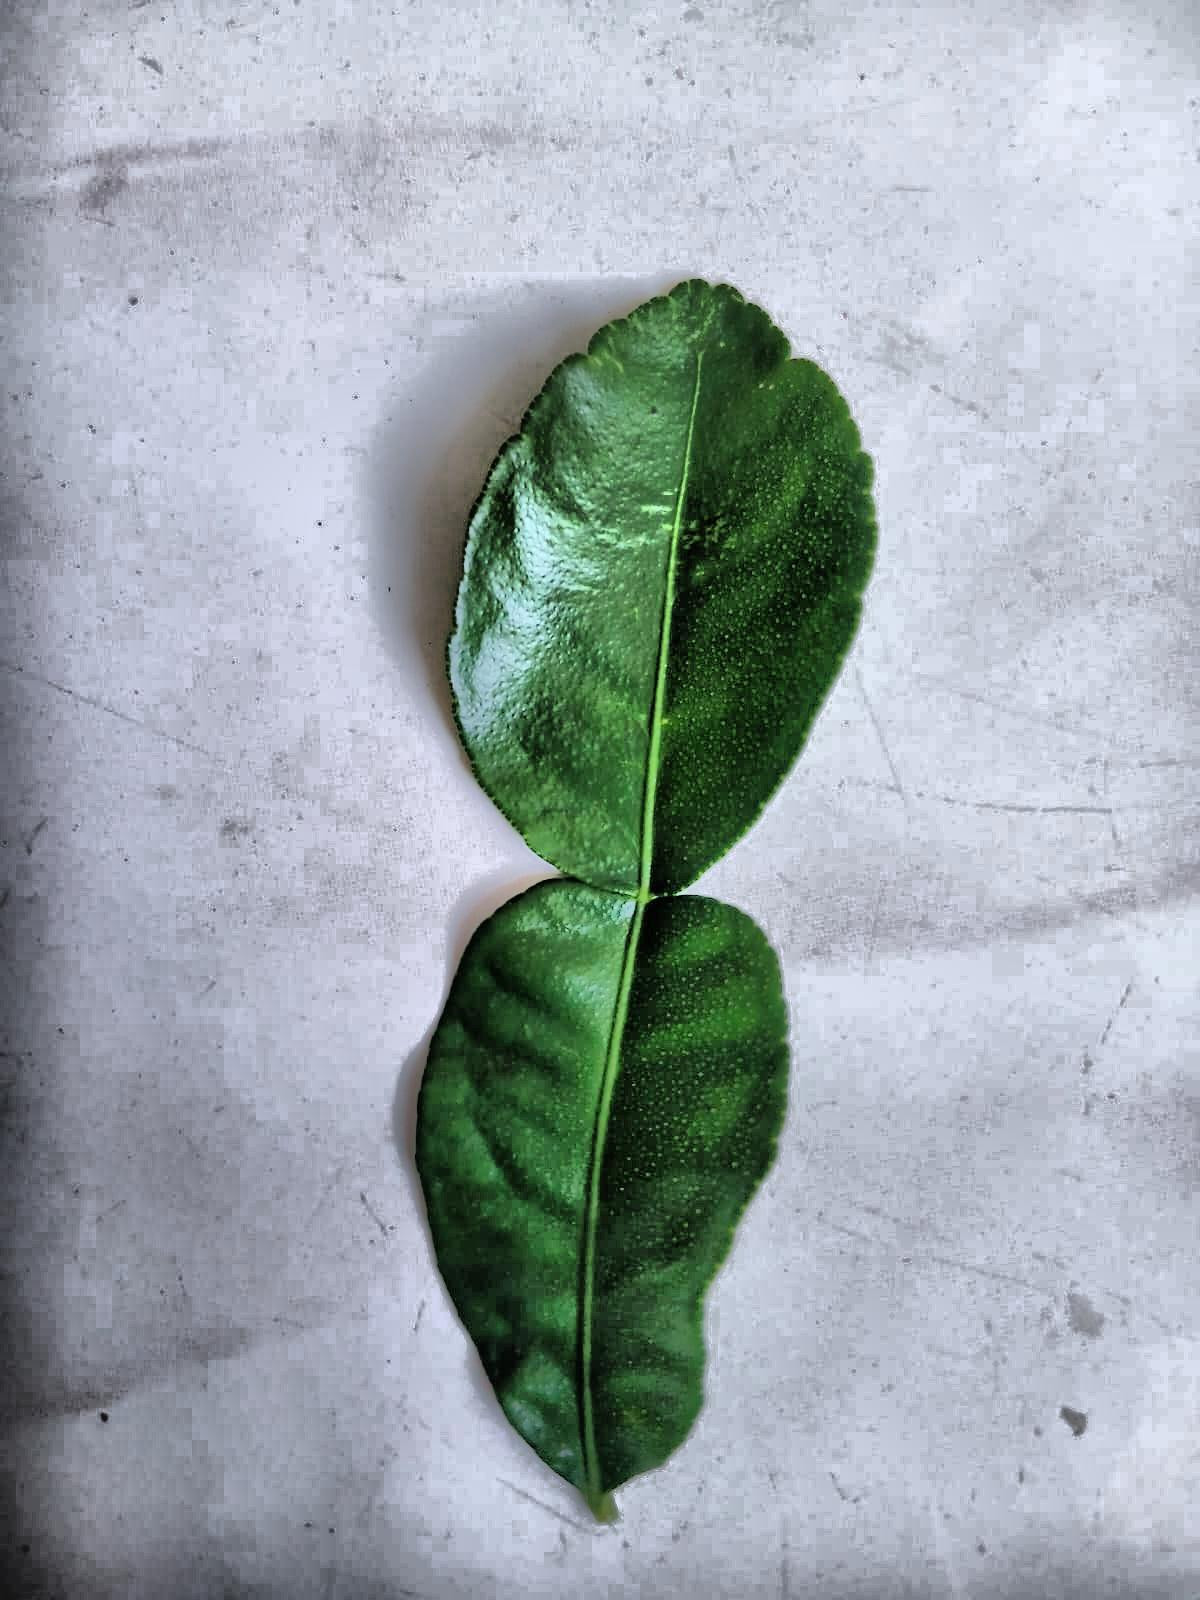daun jeruk: (416, 281, 875, 1519)
